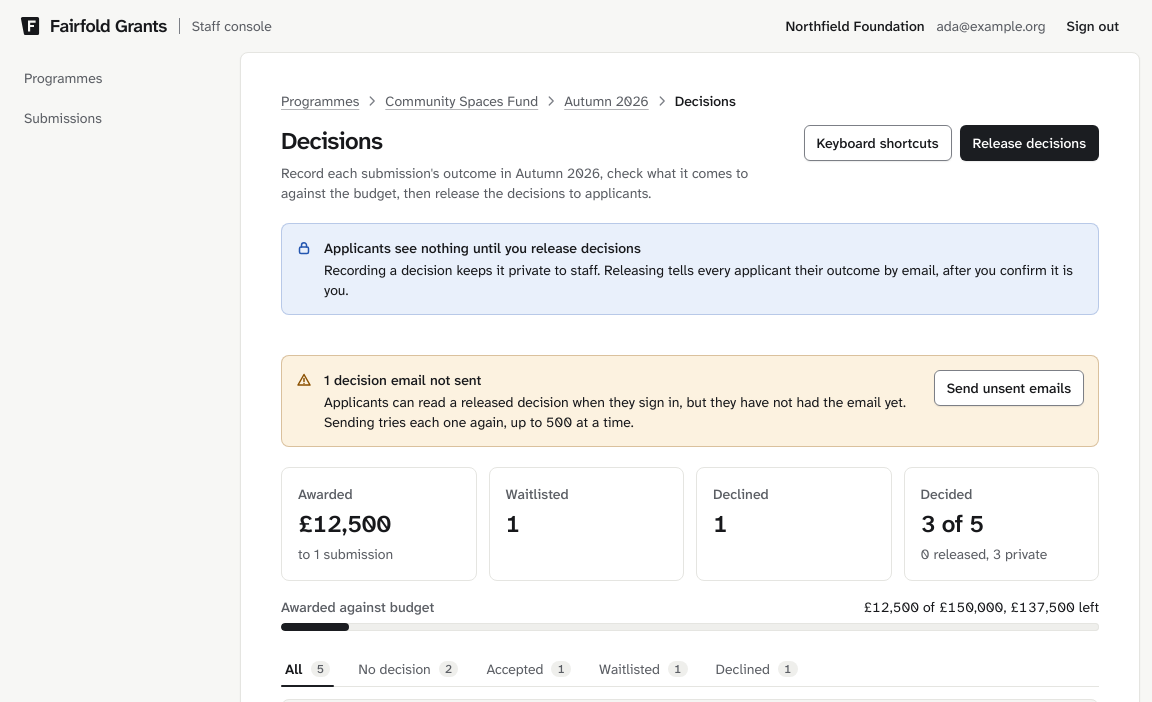
Test: the decisions of a round › asks the person to confirm it is them when sending needs a recent sign-in
The width and height of the screenshot is (1152, 702).
Click the button "Send unsent emails" at [1009, 388], box [934, 370, 1084, 406]
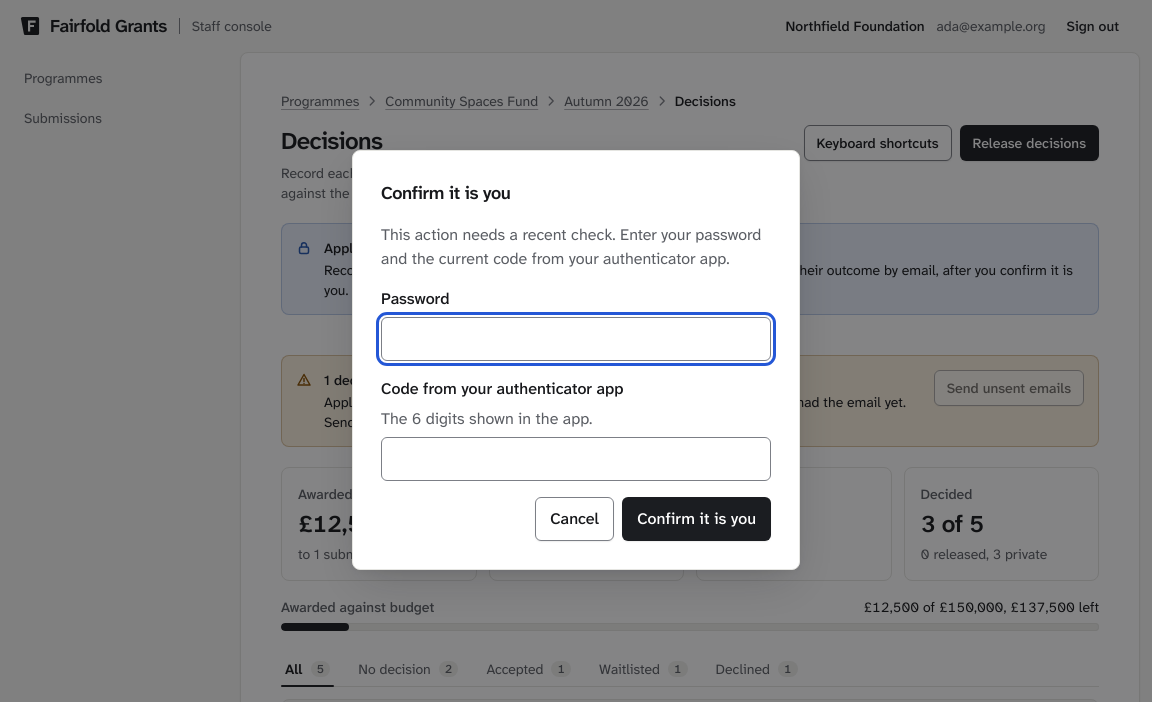
Type "correct horse battery" into the password field labelled "Password" at [576, 339], box [381, 317, 771, 361]
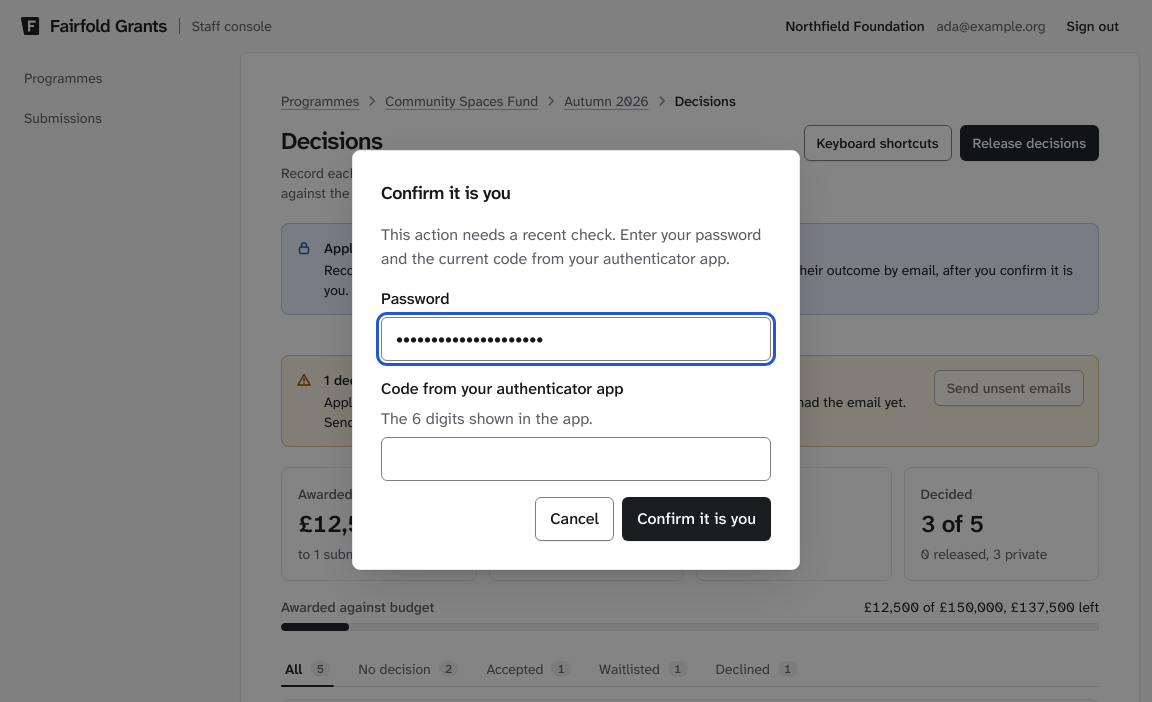
Type "123456" into the field labelled "Code from your authenticator app" at [576, 459], box [381, 437, 771, 481]
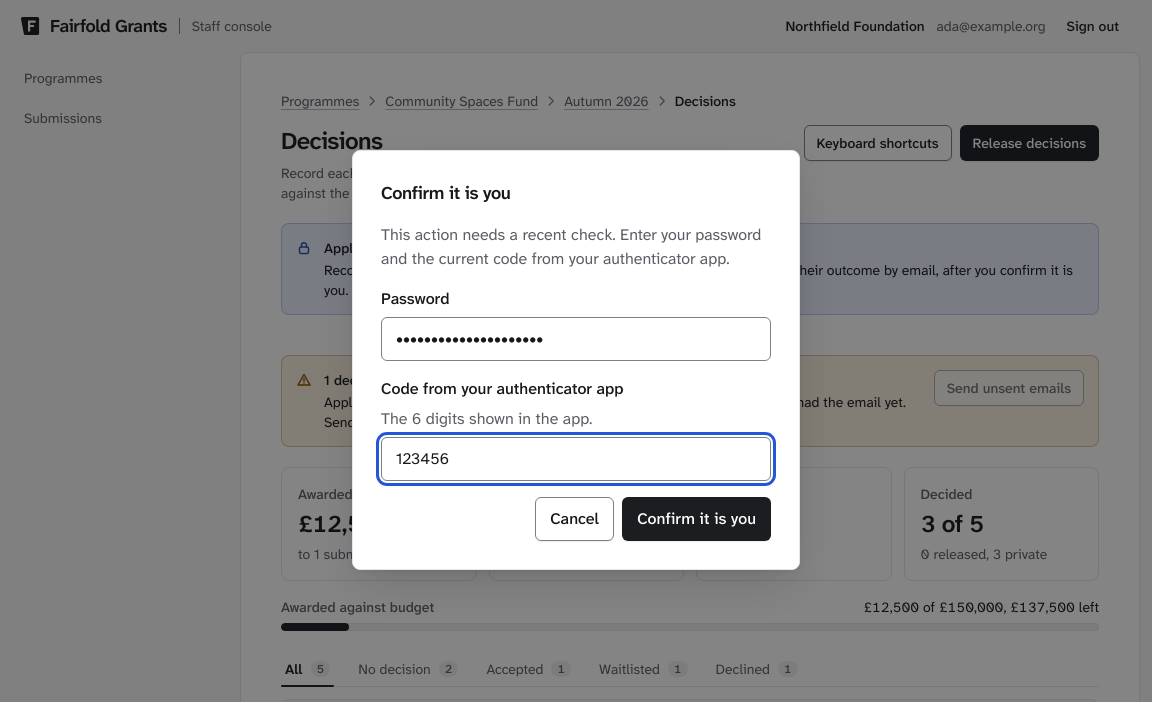
Click the button "Confirm it is you" at [697, 519], box [622, 497, 771, 541]
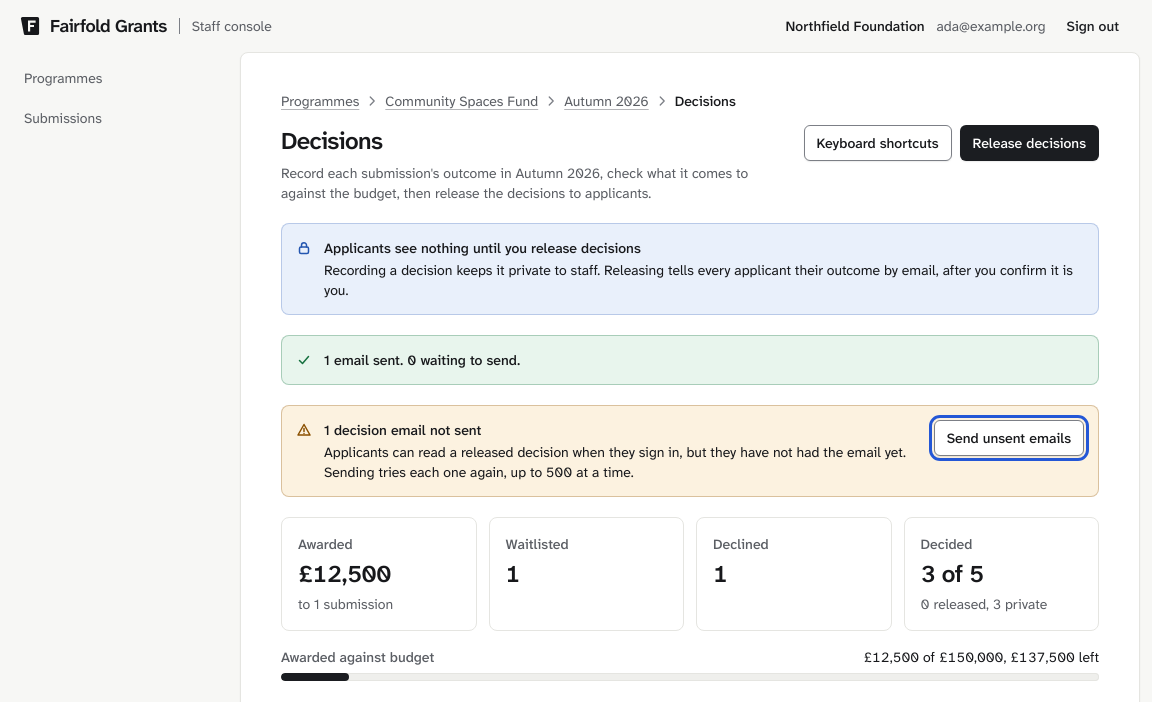
Now the text "1 email sent. 0 waiting to send." is shown, box [324, 351, 520, 369]
